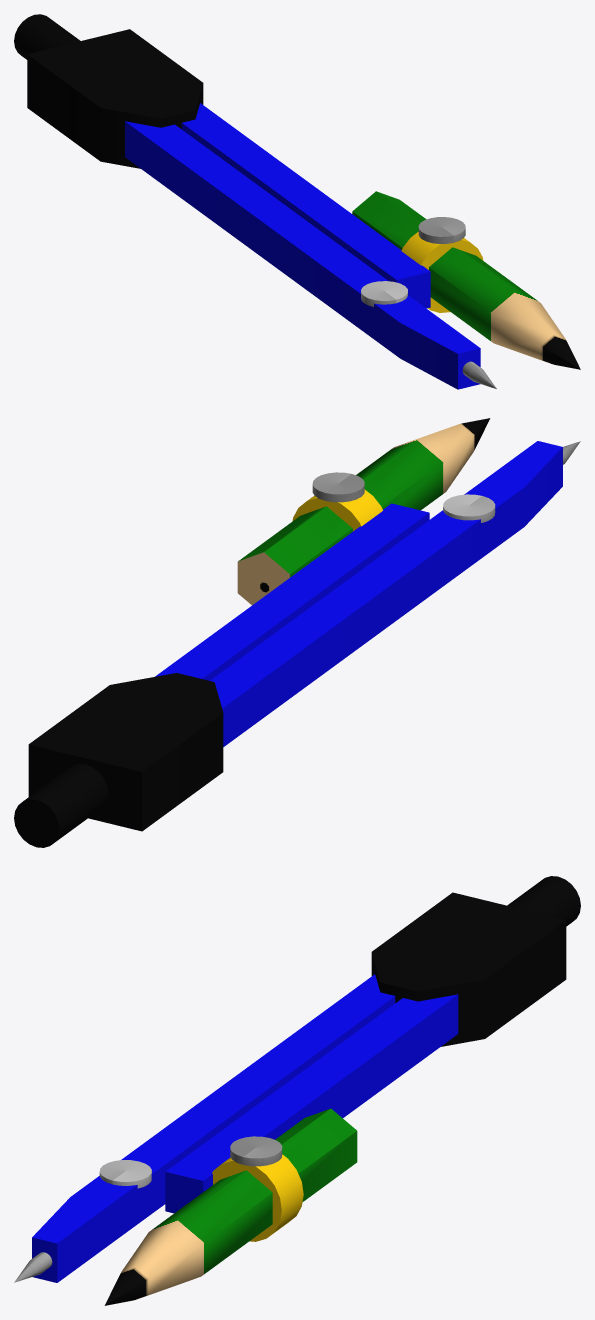
Rendered from stationery_04_close.glb.
3 views of the same model, one above another, from view 1: azimuth 30°, elevation 25°; view 2: azimuth 150°, elevation 25°; view 3: azimuth 330°, elevation 25° (orthographic). The views are drawn at different scales.
Parts seen in each view (by area): view 1: obj3; view 2: obj3; view 3: obj3.
Part boxes in pixels (x1,y1,x2,y2): obj3: (14,14,580,389); obj3: (14,418,580,847); obj3: (14,876,580,1305).
Bounding box in the file's own units: 2.21 × 1.09 × 12.1.
1 material, 1 textured.
